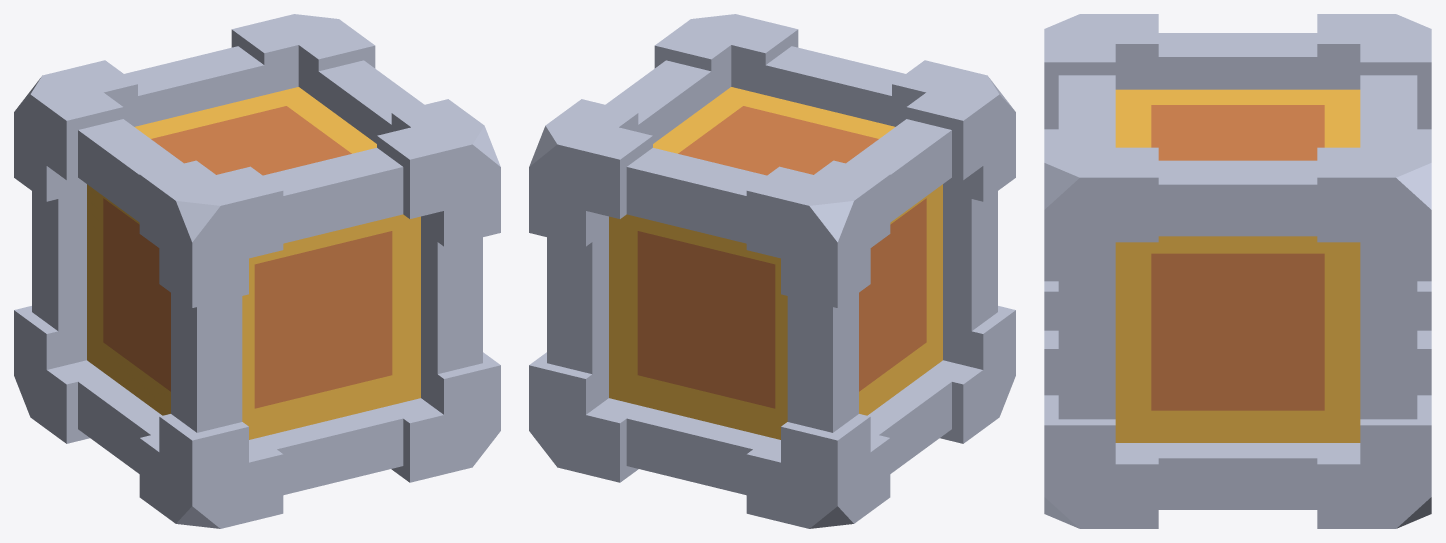
File: crateItemStrong.dae
The picture shows the model from 3 angles, left to right: view 1: azimuth 30°, elevation 25°; view 2: azimuth 150°, elevation 25°; view 3: azimuth 270°, elevation 25°; orthographic projection. The views are drawn at different scales.
Parts seen in each view (by area): view 1: crateItemStrong; view 2: crateItemStrong; view 3: crateItemStrong.
Part boxes in pixels (box(x1,y1,x2,y2)): crateItemStrong: box(14, 14, 500, 528); crateItemStrong: box(529, 14, 1015, 528); crateItemStrong: box(1044, 14, 1431, 528).
Size of the model in its own units: 0.54 by 0.54 by 0.54.
